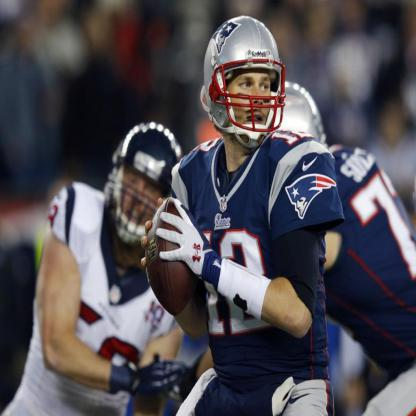face: (120, 150, 172, 240), (220, 50, 274, 136)
